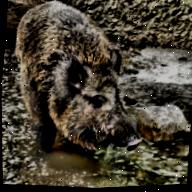boar: (0, 0, 164, 191)
